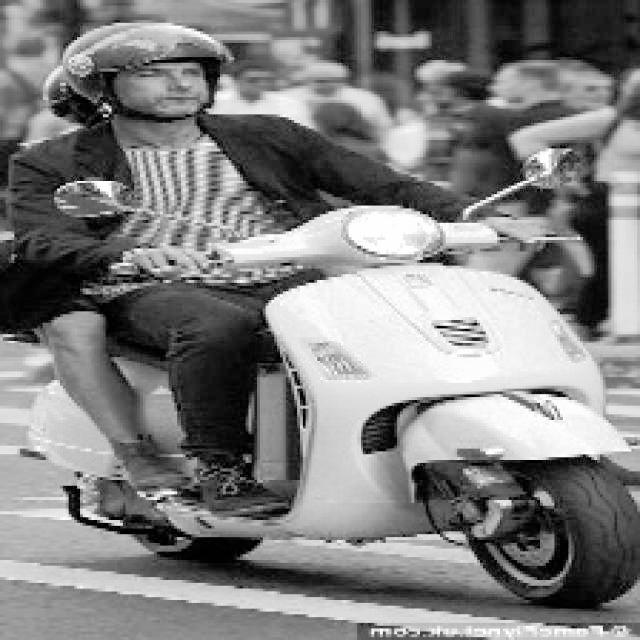Bike: (192, 223, 638, 627)
